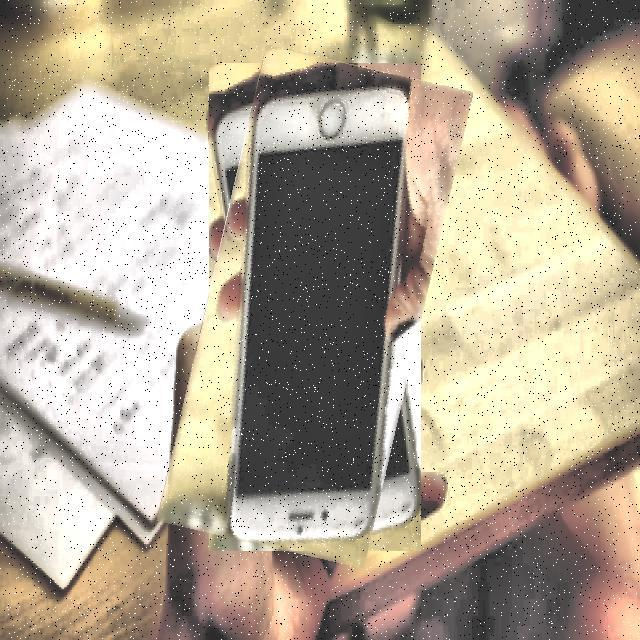Phone: (182, 53, 447, 560)
